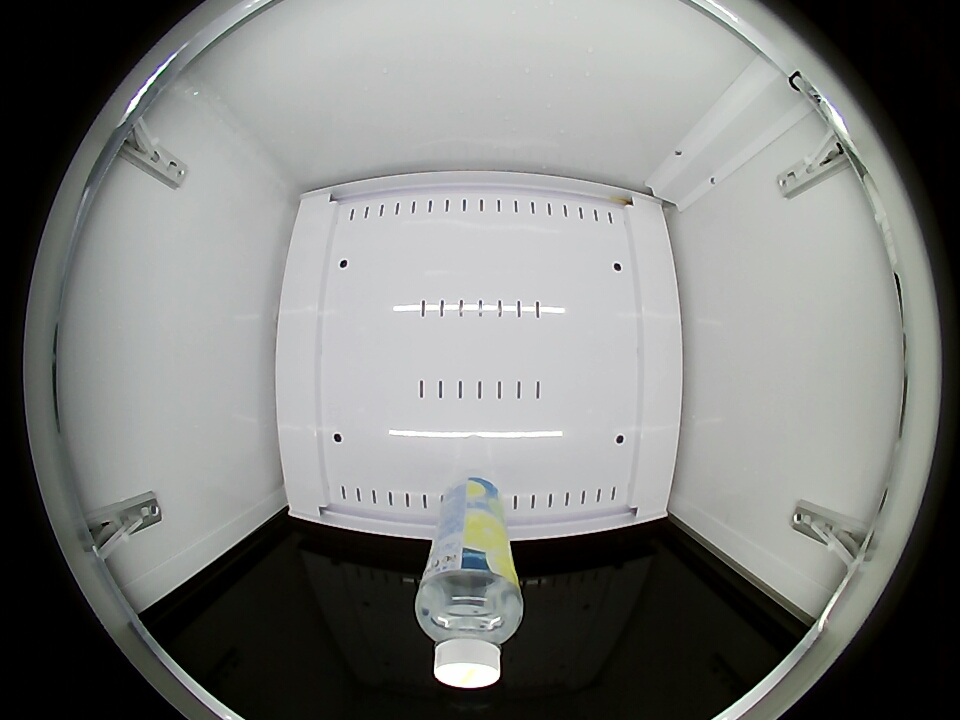qinningshui: (416, 563, 525, 690)
